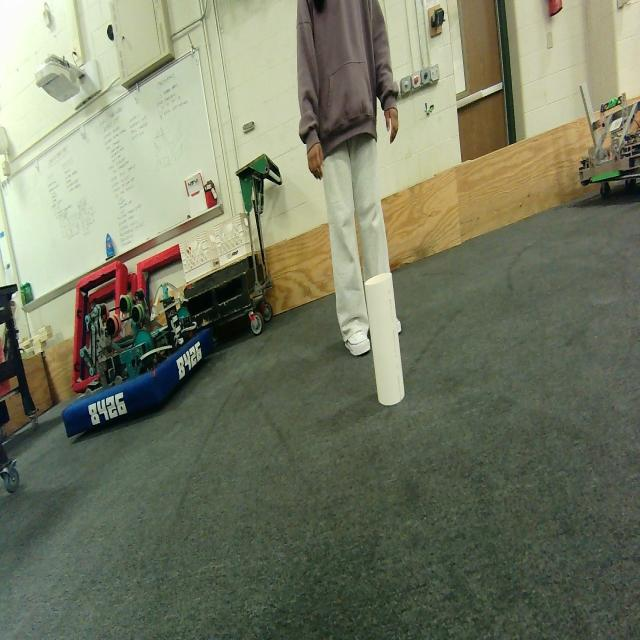coral: (364, 274, 404, 406)
